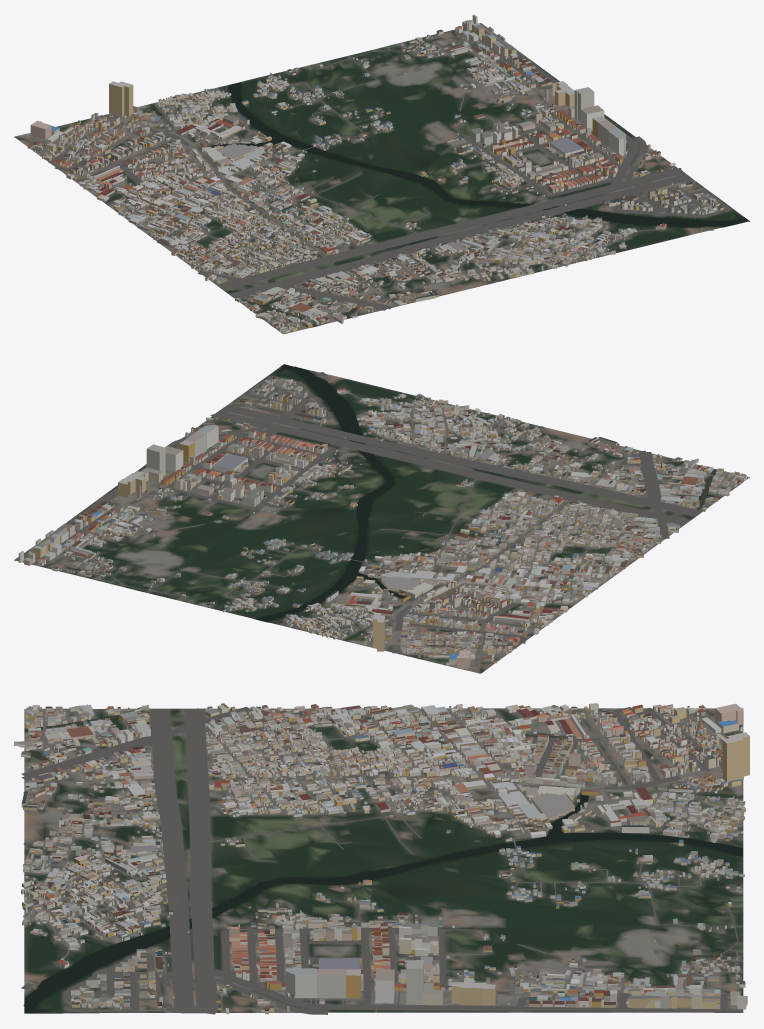
3 renders of one model, top to bottom at view 1: azimuth 30°, elevation 25°; view 2: azimuth 150°, elevation 25°; view 3: azimuth 270°, elevation 25°, orthographic. The views are drawn at different scales.
Visible parts, largest first — view 1: buildings, ground, roads, water; view 2: ground, buildings, roads, water; view 3: ground, buildings, roads, water.
Part boxes in pixels (x1,y1,x2,y2): buildings: (27, 14, 723, 332); ground: (14, 29, 749, 334); roads: (16, 23, 730, 332); water: (207, 82, 748, 326); ground: (14, 367, 749, 673); buildings: (18, 376, 746, 668); roads: (14, 372, 742, 673); water: (255, 364, 716, 621); ground: (24, 708, 743, 1013); buildings: (14, 703, 749, 1014); roads: (21, 706, 743, 1014); water: (23, 712, 742, 1012).
Bounding box in the file's own units: 1421 × 88.92 × 1434.
